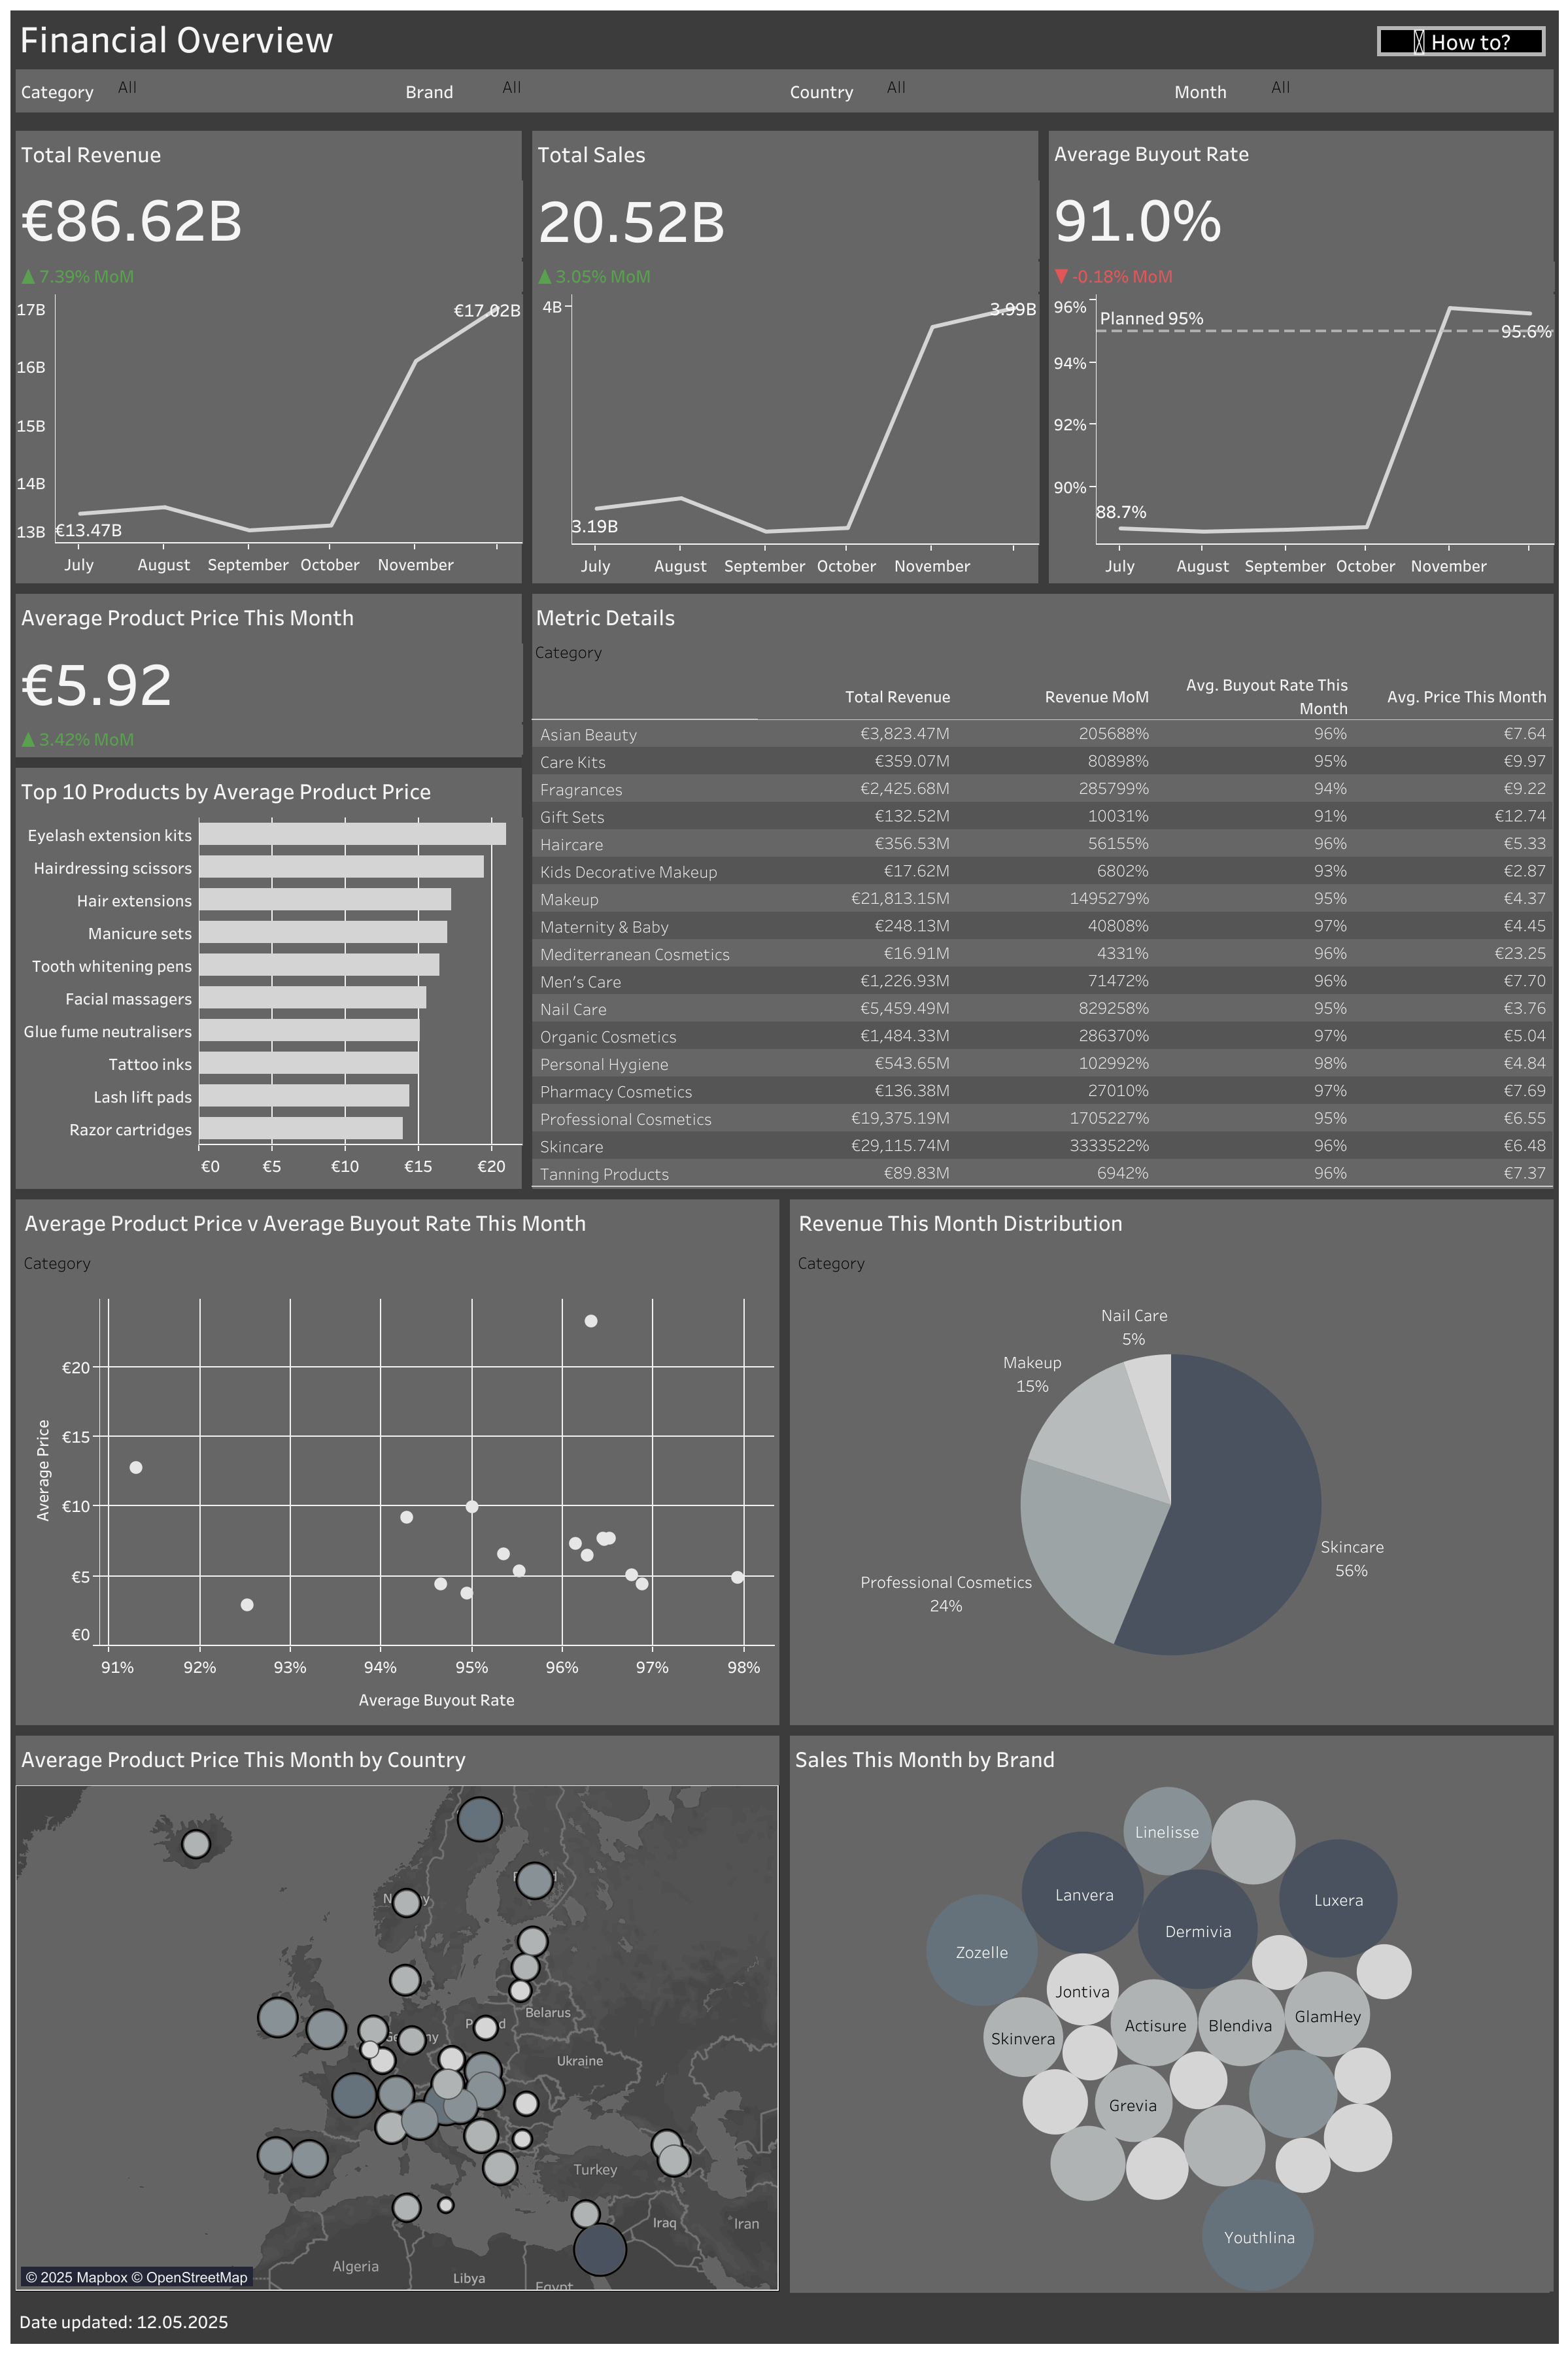

This screenshot's page, from the dashboard's own definition file:
{"tool":"tableau","page":{"name":"Financial Overview","canvas":[1200,1800],"ordinal":0},"visuals":[{"type":"title","box":[8,8,1184,41]},{"type":"dashboard-object","box":[1053,20,129,23]},{"type":"filter","title":"KPI Total Revenue","param":"[federated.1aaouh00np3yzv1463y89008w16f].[none:Category:nk]","box":[12,53,294,33]},{"type":"filter","title":"KPI Total Revenue","param":"[federated.1aaouh00np3yzv1463y89008w16f].[none:Brand:nk]","box":[306,53,294,33]},{"type":"filter","title":"KPI Total Revenue","param":"[federated.1aaouh00np3yzv1463y89008w16f].[none:Country:nk]","box":[600,53,294,33]},{"type":"filter","title":"KPI Total Revenue","param":"[federated.1aaouh00np3yzv1463y89008w16f].[mn:Month:ok]","box":[894,53,294,33]},{"type":"worksheet","title":"KPI Total Revenue","mark":"Text","box":[12,100,387,100]},{"type":"worksheet","title":"KPI Total Sales","mark":"Text","box":[407,100,387,100]},{"type":"worksheet","title":"KPI Average Buyout Rate","mark":"Text","box":[802,100,386,100]},{"type":"worksheet","title":"KPI Revenue MoM Change","mark":"Text","box":[12,200,387,25]},{"type":"worksheet","title":"KPI Sales MoM Change","mark":"Text","box":[407,200,387,25]},{"type":"worksheet","title":"KPI Monthly Average Buyout Rate MoM Change","mark":"Text","box":[802,200,386,25]},{"type":"worksheet","title":"Line Revenue","mark":"Line","rows":["Revenue"],"cols":["Month"],"box":[12,225,387,221]},{"type":"worksheet","title":"Line Sales","mark":"Line","rows":["Sales"],"cols":["Month"],"box":[407,225,387,221]},{"type":"worksheet","title":"Line Buyout Rate","mark":"Line","rows":["Buyout rate"],"cols":["Month"],"box":[802,225,386,221]},{"type":"worksheet","title":"KPI Monthly Avg Price","mark":"Text","box":[12,454,387,100]},{"type":"text","box":[407,454,781,35]},{"type":"parameter","param":"[Parameters].[Parameter 1]","box":[407,489,781,25]},{"type":"worksheet","title":"Table Brand","mark":"Automatic","rows":["Brand"],"box":[404,513.8,784,395.2]},{"type":"worksheet","title":"Table Product Type","mark":"Automatic","rows":["Product type"],"box":[404,513.8,784,395.2]},{"type":"worksheet","title":"Table Category","mark":"Automatic","rows":["Category"],"box":[407,514,781,394]},{"type":"worksheet","title":"KPI Average Price MoM Change","mark":"Text","box":[12,554,387,25]},{"type":"blank","box":[12,579,387,8]},{"type":"worksheet","title":"Bar Top 10 Products by Avg Price","mark":"Bar","rows":["Product type"],"cols":["Price (December)"],"box":[12,587,387,322]},{"type":"text","box":[12,917,584,35]},{"type":"text","box":[604,917,584,35]},{"type":"parameter","param":"[Parameters].[Table Selector (copy)_608548916821344256]","box":[12,952,584,34]},{"type":"parameter","param":"[Parameters].[Parameter 2]","box":[604,952,584,34]},{"type":"worksheet","title":"Scatterplot Category","mark":"Automatic","rows":["Price (December)"],"cols":["Buyout rate (December)"],"box":[12,986,584,333]},{"type":"worksheet","title":"Pie Category & Country","mark":"Pie","box":[604,986,584,323]},{"type":"worksheet","title":"Scatterplot Product Type","mark":"Automatic","rows":["Price (December)"],"cols":["Buyout rate (December)"],"box":[12,987.4,584,331.5]},{"type":"worksheet","title":"Scatterplot Brand","mark":"Automatic","rows":["Price (December)"],"cols":["Buyout rate (December)"],"box":[12,987.4,584,331.5]},{"type":"worksheet","title":"Map Product Price by Country","mark":"Automatic","box":[8,1323,592,433]},{"type":"worksheet","title":"Bubble Sales by Brand","mark":"Circle","box":[600,1323,592,433]},{"type":"text","box":[8,1756,1184,36]}]}

Visuals, with their boxes in screenshot pixels (x1, y1, x2, y2), scaled from the page's 1200x1800 canvas onto the 1568x2353 screenshot:
title: l=10, t=10, r=1558, b=64
dashboard-object: l=1376, t=26, r=1544, b=56
"KPI Total Revenue" filter: l=16, t=69, r=400, b=112
"KPI Total Revenue" filter: l=400, t=69, r=784, b=112
"KPI Total Revenue" filter: l=784, t=69, r=1168, b=112
"KPI Total Revenue" filter: l=1168, t=69, r=1552, b=112
"KPI Total Revenue" worksheet (Text marks): l=16, t=131, r=521, b=262
"KPI Total Sales" worksheet (Text marks): l=532, t=131, r=1038, b=262
"KPI Average Buyout Rate" worksheet (Text marks): l=1048, t=131, r=1552, b=262
"KPI Revenue MoM Change" worksheet (Text marks): l=16, t=262, r=521, b=294
"KPI Sales MoM Change" worksheet (Text marks): l=532, t=262, r=1038, b=294
"KPI Monthly Average Buyout Rate MoM Change" worksheet (Text marks): l=1048, t=262, r=1552, b=294
"Line Revenue" worksheet (Line marks): l=16, t=294, r=521, b=583
"Line Sales" worksheet (Line marks): l=532, t=294, r=1038, b=583
"Line Buyout Rate" worksheet (Line marks): l=1048, t=294, r=1552, b=583
"KPI Monthly Avg Price" worksheet (Text marks): l=16, t=593, r=521, b=724
text: l=532, t=593, r=1552, b=639
parameter: l=532, t=639, r=1552, b=672
"Table Brand" worksheet: l=528, t=672, r=1552, b=1188
"Table Product Type" worksheet: l=528, t=672, r=1552, b=1188
"Table Category" worksheet: l=532, t=672, r=1552, b=1187
"KPI Average Price MoM Change" worksheet (Text marks): l=16, t=724, r=521, b=757
blank: l=16, t=757, r=521, b=767
"Bar Top 10 Products by Avg Price" worksheet (Bar marks): l=16, t=767, r=521, b=1188
text: l=16, t=1199, r=779, b=1245
text: l=789, t=1199, r=1552, b=1245
parameter: l=16, t=1245, r=779, b=1289
parameter: l=789, t=1245, r=1552, b=1289
"Scatterplot Category" worksheet: l=16, t=1289, r=779, b=1725
"Pie Category & Country" worksheet (Pie marks): l=789, t=1289, r=1552, b=1711
"Scatterplot Product Type" worksheet: l=16, t=1291, r=779, b=1724
"Scatterplot Brand" worksheet: l=16, t=1291, r=779, b=1724
"Map Product Price by Country" worksheet: l=10, t=1730, r=784, b=2295
"Bubble Sales by Brand" worksheet (Circle marks): l=784, t=1730, r=1558, b=2295
text: l=10, t=2295, r=1558, b=2343
